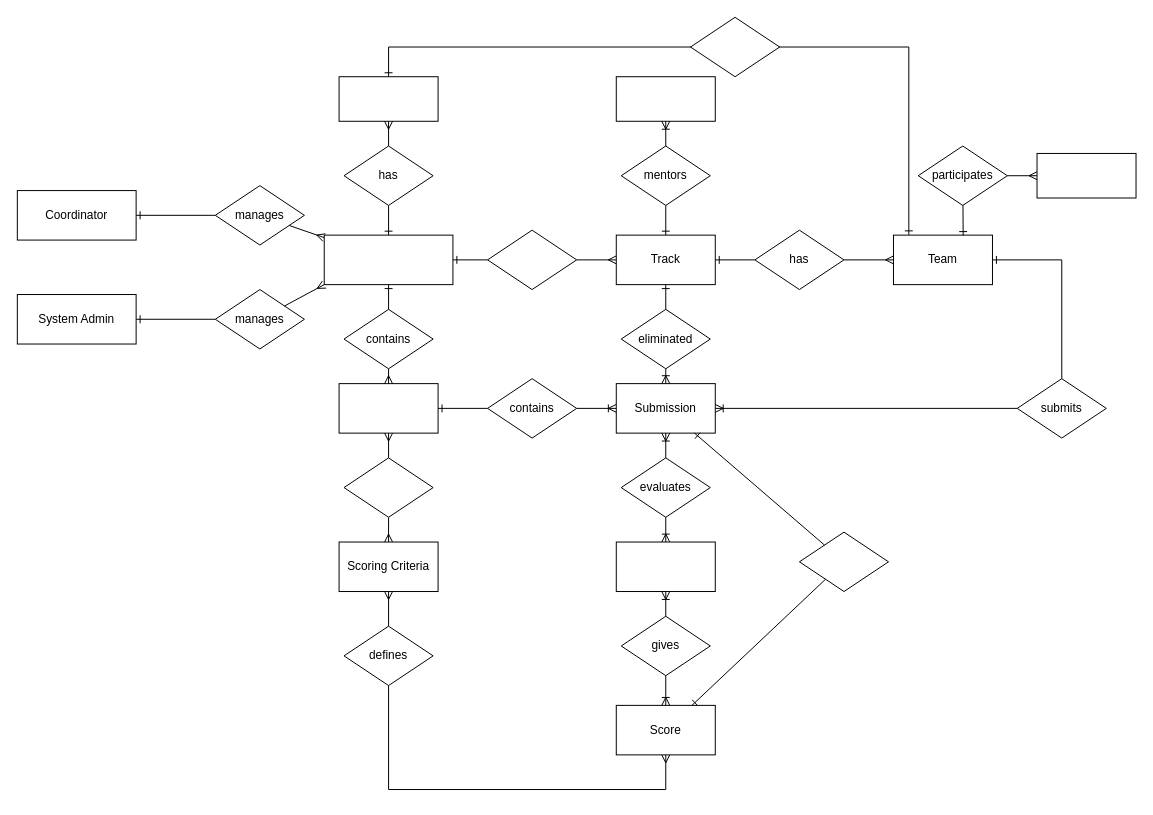
Image size: 1153x815. Some labels were removed from this diagram. Here are the shapes that lost their labels. From the top down, the box of each, then its label:
(690, 16, 780, 77): awards
(338, 76, 438, 121): Prize
(615, 76, 715, 121): Mentor
(1036, 152, 1136, 198): Participant
(323, 234, 453, 285): HackathonEvent
(487, 229, 577, 290): includes
(338, 383, 438, 433): Round
(343, 457, 433, 517): uses
(615, 541, 715, 592): Judge
(798, 531, 889, 592): receives
